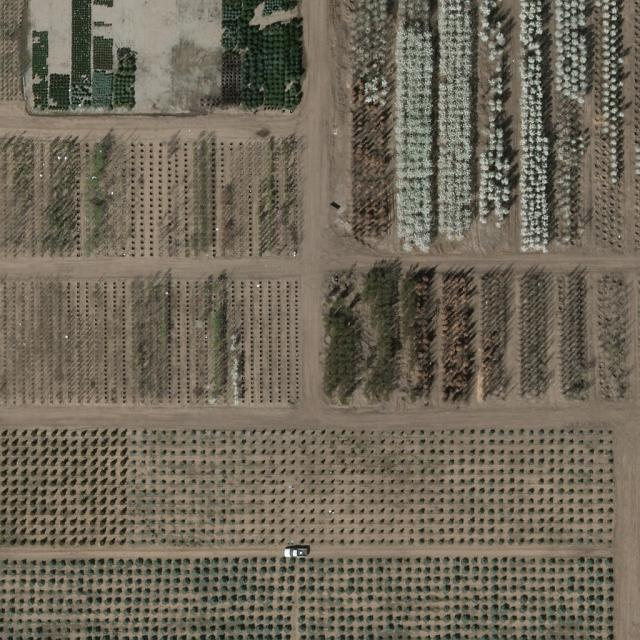vehicle: (284, 548, 310, 558)
